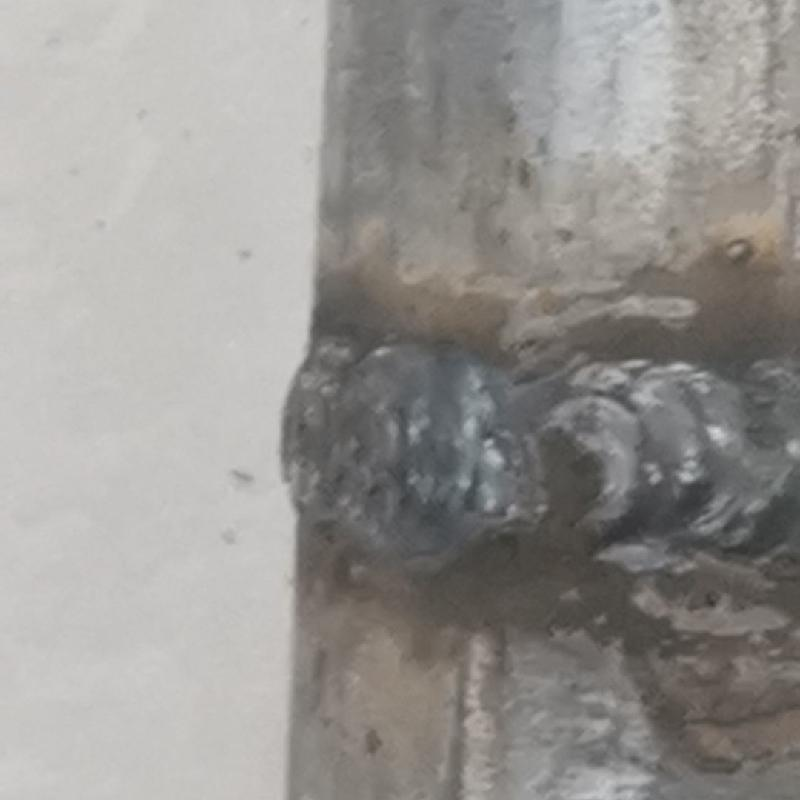good: (269, 317, 799, 572)
